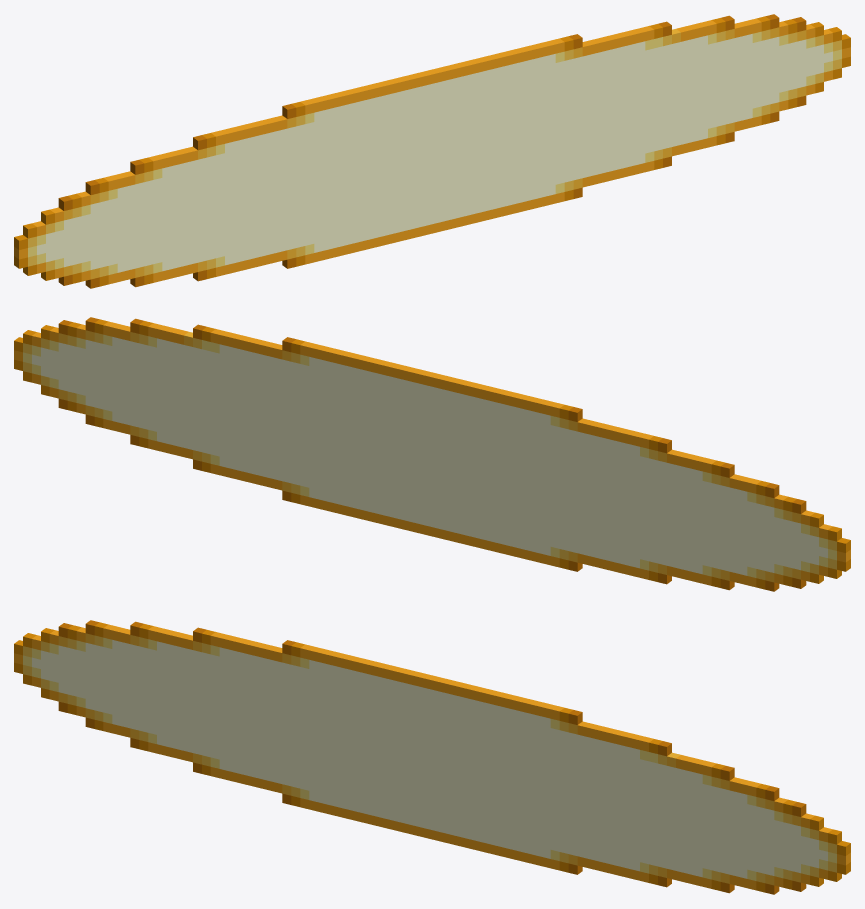
The model's file is Fight_107_3_14_fx.obj.
3 views of the same model, one above another, from view 1: azimuth 30°, elevation 25°; view 2: azimuth 150°, elevation 25°; view 3: azimuth 330°, elevation 25° (orthographic).
Size of the model in its own units: 9.3 by 1.7 by 0.1.
